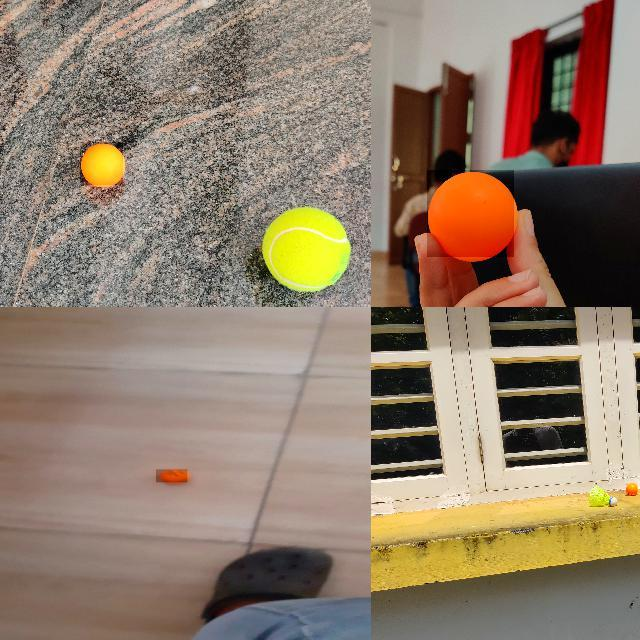ping-pong-ball: (427, 170, 515, 258), (80, 142, 124, 186), (156, 470, 189, 482), (626, 483, 638, 495)
